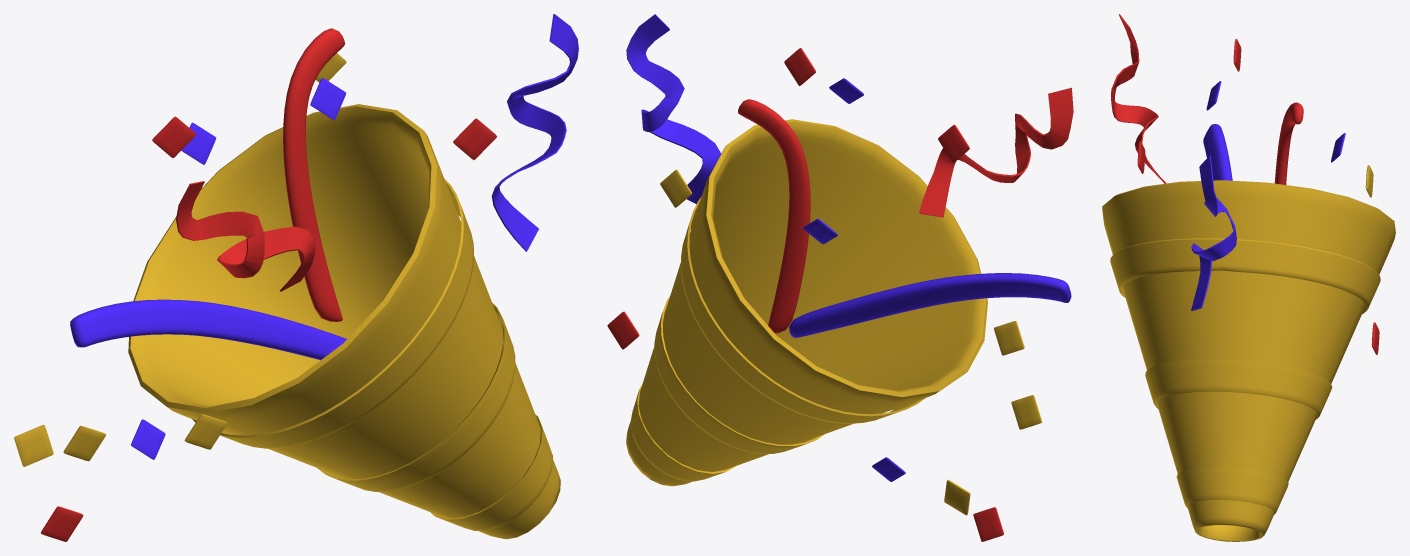
The model's file is party-pop.glb.
3 views of the same model, side by side, from view 1: azimuth 30°, elevation 25°; view 2: azimuth 150°, elevation 25°; view 3: azimuth 270°, elevation 25° (orthographic). The views are drawn at different scales.
Parts seen in each view (by area): view 1: P6, P5, P2, P3, P1, P007, P010, P014, P015, P013, P011, P012 (+3 smaller); view 2: P6, P5, P2, P3, P007, P1, P012, P013, P011, P017, P014, P015 (+2 smaller); view 3: P6, P5, P007, P1, P3, P2.
Boxes of the visible parts, x1,y1,x2,y2 form: P6: (128,104,560,539); P5: (192,179,552,530); P2: (70,299,346,360); P3: (283,28,344,321); P1: (176,181,315,291); P007: (491,14,578,251); P010: (14,425,53,466); P014: (152,116,196,157); P015: (453,118,496,159); P013: (184,414,227,449); P011: (63,425,106,461); P012: (41,506,83,541); P6: (626,119,987,486); P5: (630,196,925,481); P2: (789,273,1071,337); P3: (738,99,810,333); P007: (626,14,721,203); P1: (919,87,1073,217); P012: (973,507,1003,541); P013: (994,321,1024,355); P011: (1011,395,1042,429); P017: (607,311,639,349); P014: (938,124,969,162); P015: (784,48,815,85); P6: (1102,180,1395,541); P5: (1110,238,1380,514); P007: (1191,155,1236,310); P1: (1111,14,1166,183); P3: (1274,102,1303,184); P2: (1203,124,1232,180).
Bounding box in the file's own units: 0.4634 × 0.4525 × 0.2982.
